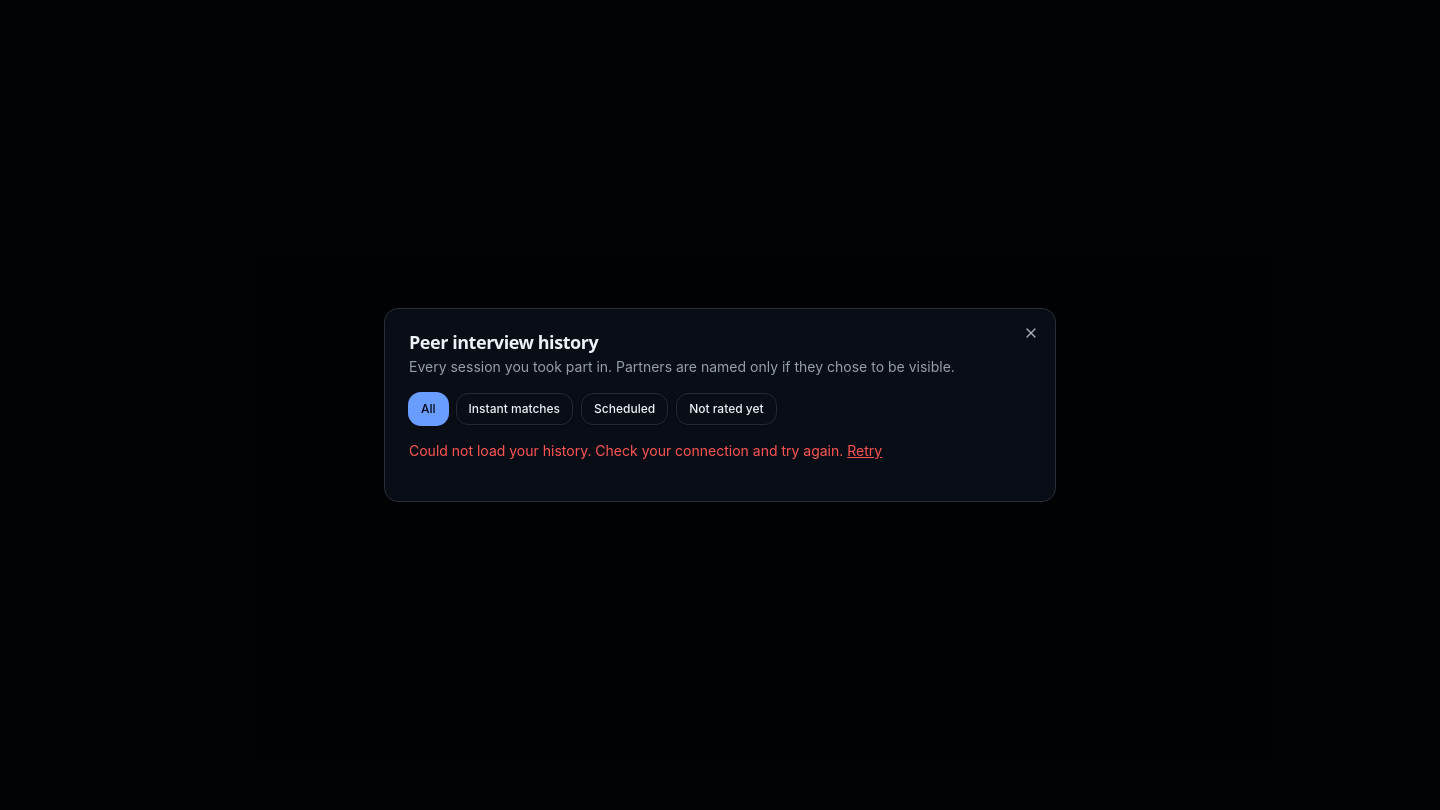
Test: PeerHistoryDialog › shows an error with a retry that reloads
This screenshot has width=1440, height=810.
Click the button "Retry". click: (865, 451)
box: [847,441,882,461]
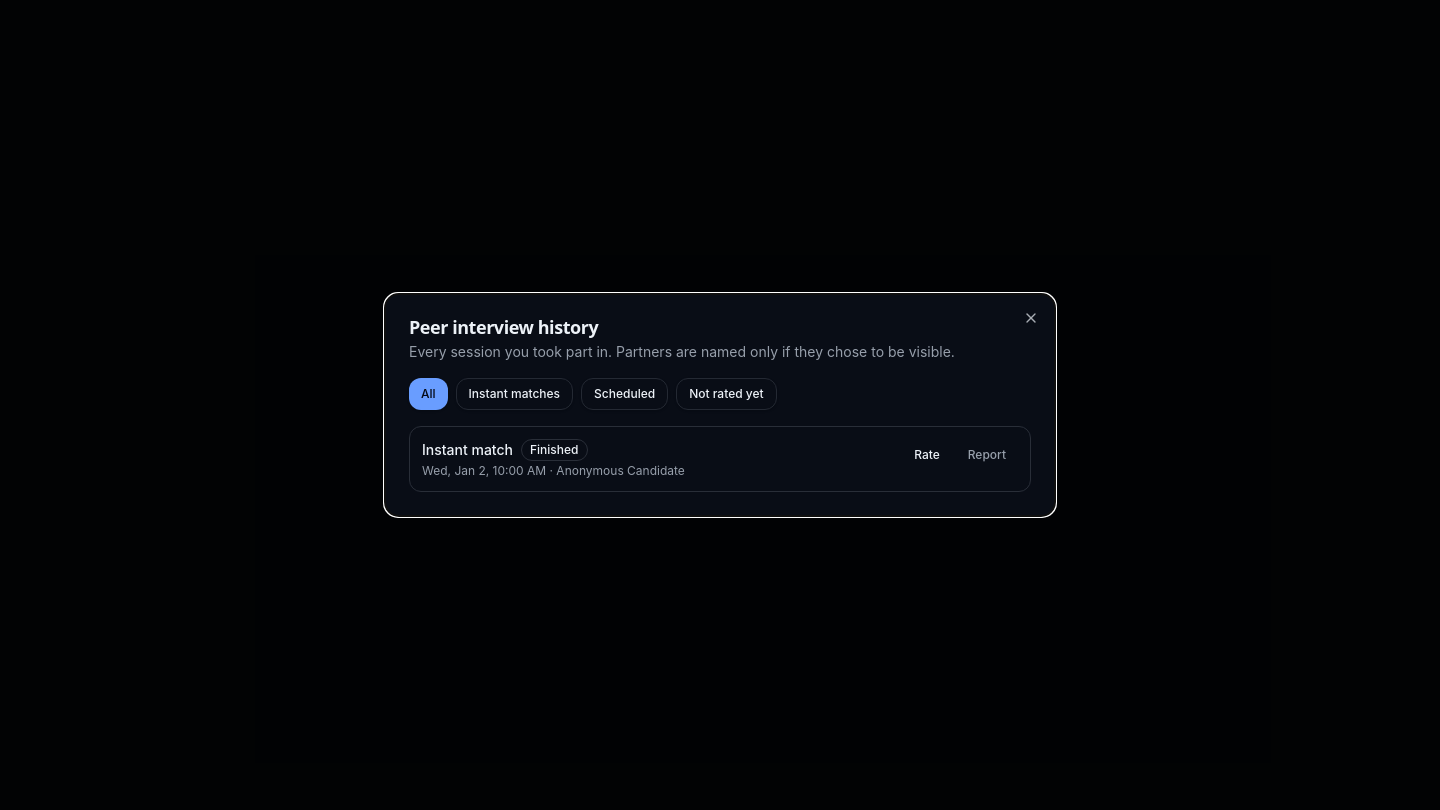
Now the text "Instant match" is shown, box [422,440,513,460]
